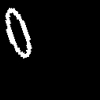chain: (6, 8, 30, 57)
